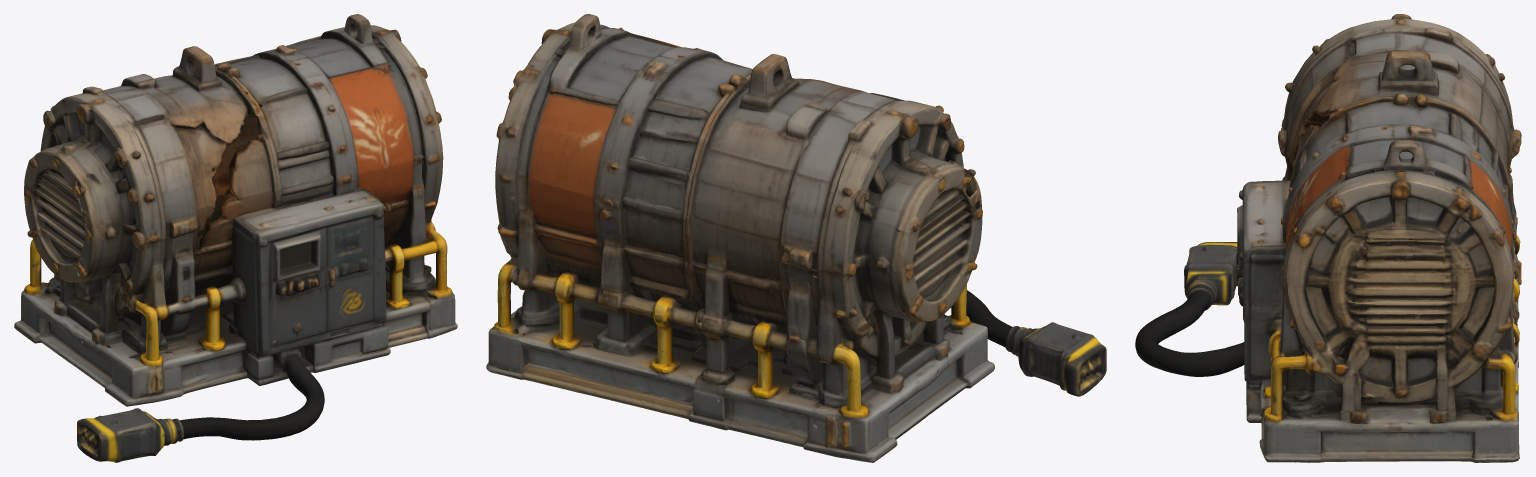
The model's file is old_power.glb.
The picture shows the model from 3 angles, left to right: view 1: azimuth 30°, elevation 25°; view 2: azimuth 150°, elevation 25°; view 3: azimuth 270°, elevation 25°; orthographic projection. The views are drawn at different scales.
Parts seen in each view (by area): view 1: world; view 2: world; view 3: world.
Boxes of the visible parts, bbox=[...] form: world: bbox=[14, 14, 457, 462]; world: bbox=[486, 14, 1106, 462]; world: bbox=[1135, 14, 1521, 462].
Size of the model in its own units: 1.2 by 0.8771 by 0.9362.
1 material, 1 textured.
